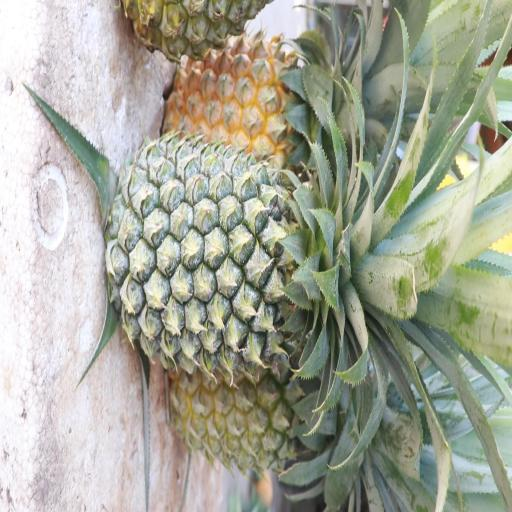------------------------------: (171, 355, 383, 471)
Pineapple - v8 v1: (176, 31, 362, 163)
